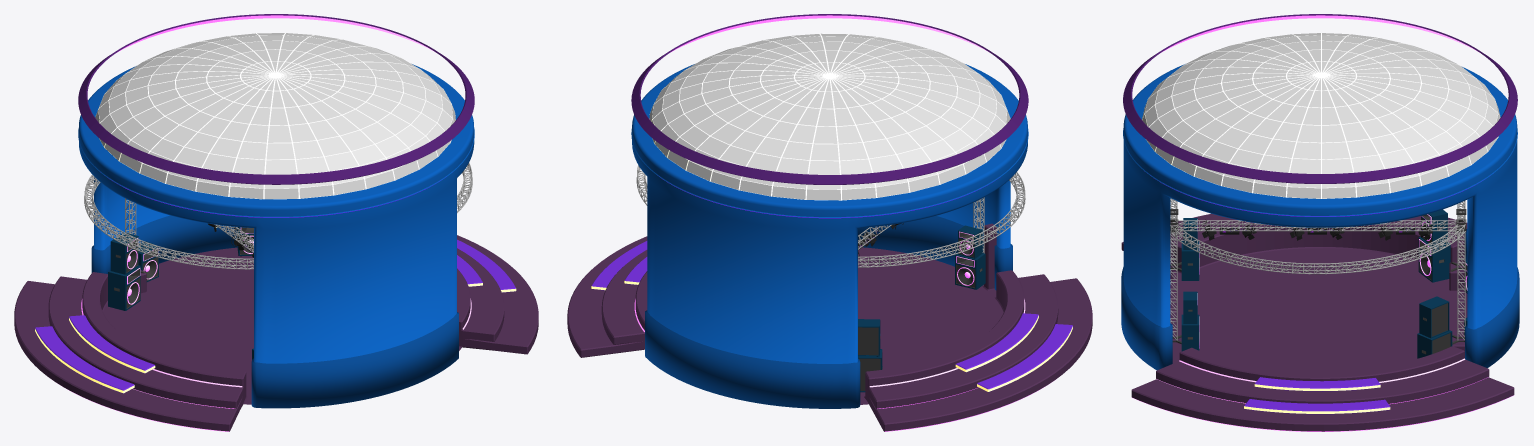
File: dancefloor.glb
3 renders of one model, left to right at view 1: azimuth 30°, elevation 25°; view 2: azimuth 150°, elevation 25°; view 3: azimuth 270°, elevation 25°, orthographic.
Visible parts, largest first — view 1: Cylinder, Sphere, Cylinder.001, Cylinder.004, Cylinder.002, truss structure.002, speaker.003, speaker.002, Cylinder.003, truss structure.003, speaker.009; view 2: Cylinder, Sphere, Cylinder.001, Cylinder.004, Cylinder.002, truss structure.002, speaker.006, speaker.002, Cylinder.003, truss structure.003, speaker.008, speaker.003; view 3: Cylinder.001, Sphere, Cylinder, Cylinder.004, truss structure.003, truss structure.004, Cylinder.002, speaker.004, speaker.003, Cylinder.003, speaker.001, speaker.002 (+6 smaller).
Part boxes in pixels (<box>): Cylinder: <box>79,64,474,408</box>; Sphere: <box>95,33,455,199</box>; Cylinder.001: <box>14,235,538,431</box>; Cylinder.004: <box>78,14,474,184</box>; Cylinder.002: <box>35,239,516,393</box>; truss structure.002: <box>84,174,253,269</box>; speaker.003: <box>108,265,140,310</box>; speaker.002: <box>110,233,138,274</box>; Cylinder.003: <box>78,127,474,217</box>; truss structure.003: <box>125,198,253,273</box>; speaker.009: <box>138,241,158,281</box>; Cylinder: <box>632,64,1027,408</box>; Sphere: <box>649,33,1010,200</box>; Cylinder.001: <box>567,223,1092,431</box>; Cylinder.004: <box>631,14,1028,184</box>; Cylinder.002: <box>591,241,1072,392</box>; truss structure.002: <box>858,172,1025,267</box>; speaker.006: <box>955,253,985,289</box>; speaker.002: <box>858,319,880,356</box>; Cylinder.003: <box>631,129,1028,218</box>; truss structure.003: <box>858,197,984,253</box>; speaker.008: <box>958,225,982,258</box>; speaker.003: <box>858,349,882,392</box>; Cylinder.001: <box>1121,213,1514,431</box>; Sphere: <box>1142,33,1500,198</box>; Cylinder: <box>1121,64,1519,370</box>; Cylinder.004: <box>1123,14,1517,183</box>; truss structure.003: <box>1170,199,1466,344</box>; truss structure.004: <box>1170,224,1465,274</box>; Cylinder.002: <box>1244,221,1390,414</box>; speaker.004: <box>1419,296,1449,338</box>; speaker.003: <box>1418,236,1450,282</box>; Cylinder.003: <box>1123,128,1517,216</box>; speaker.001: <box>1417,330,1452,358</box>; speaker.002: <box>1421,209,1447,246</box>.
Bounding box in the file's own units: 41.52 × 22 × 31.66.
